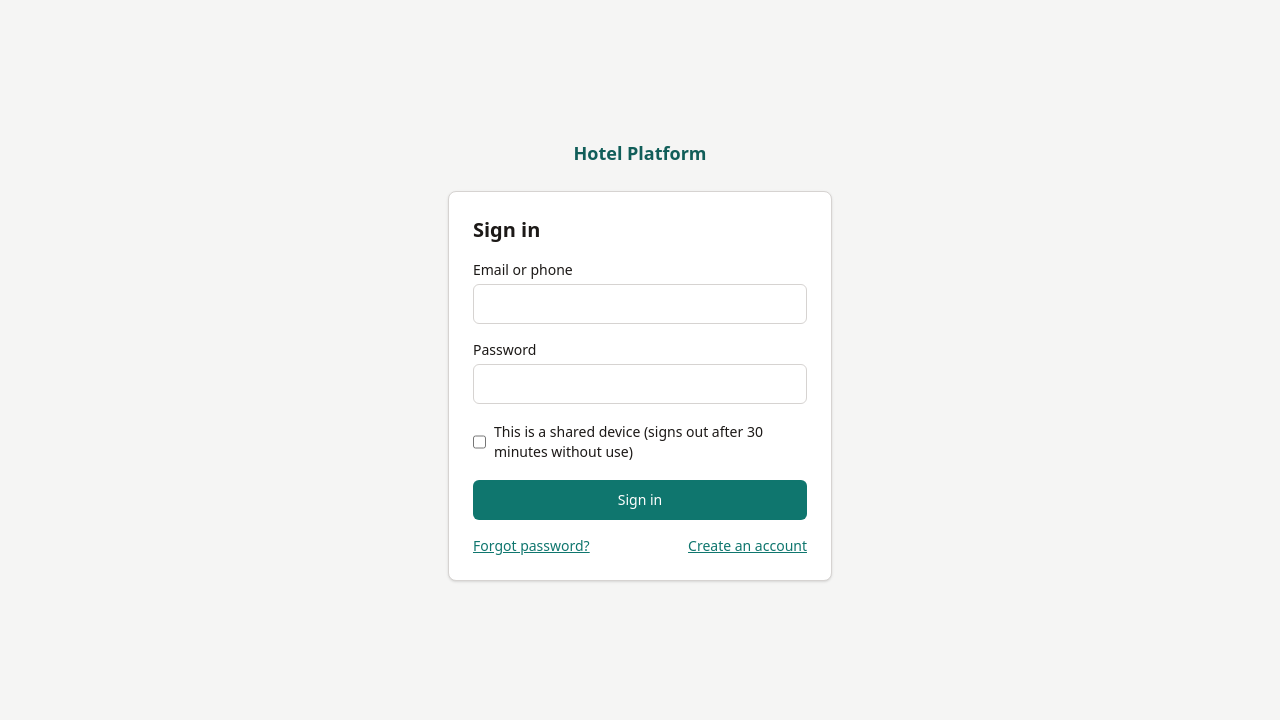
Test: sign in (S01) › signs in and goes where the user was heading
Type "ADA@example.test" into the field labelled "Email or phone" at (640, 304), box top-left (473, 284), bottom-right (807, 324)
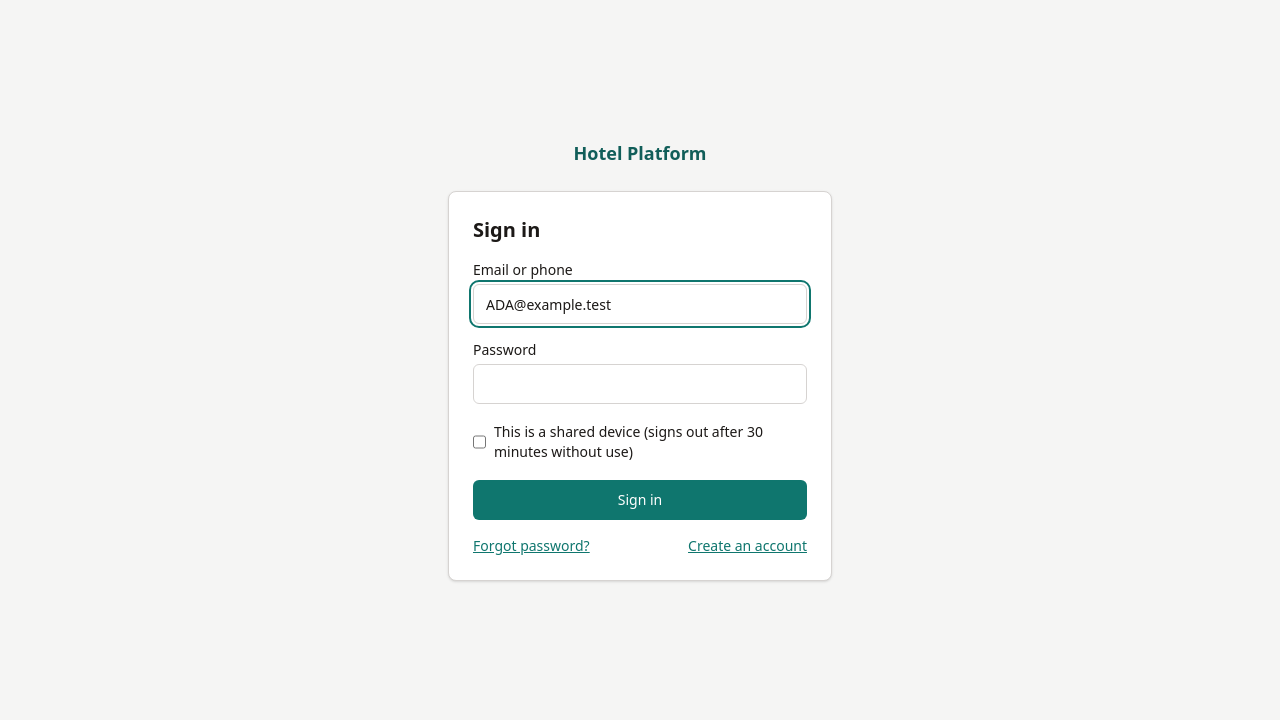
Type "correct horse battery" into the password field labelled "Password" at (640, 384), box top-left (473, 364), bottom-right (807, 404)
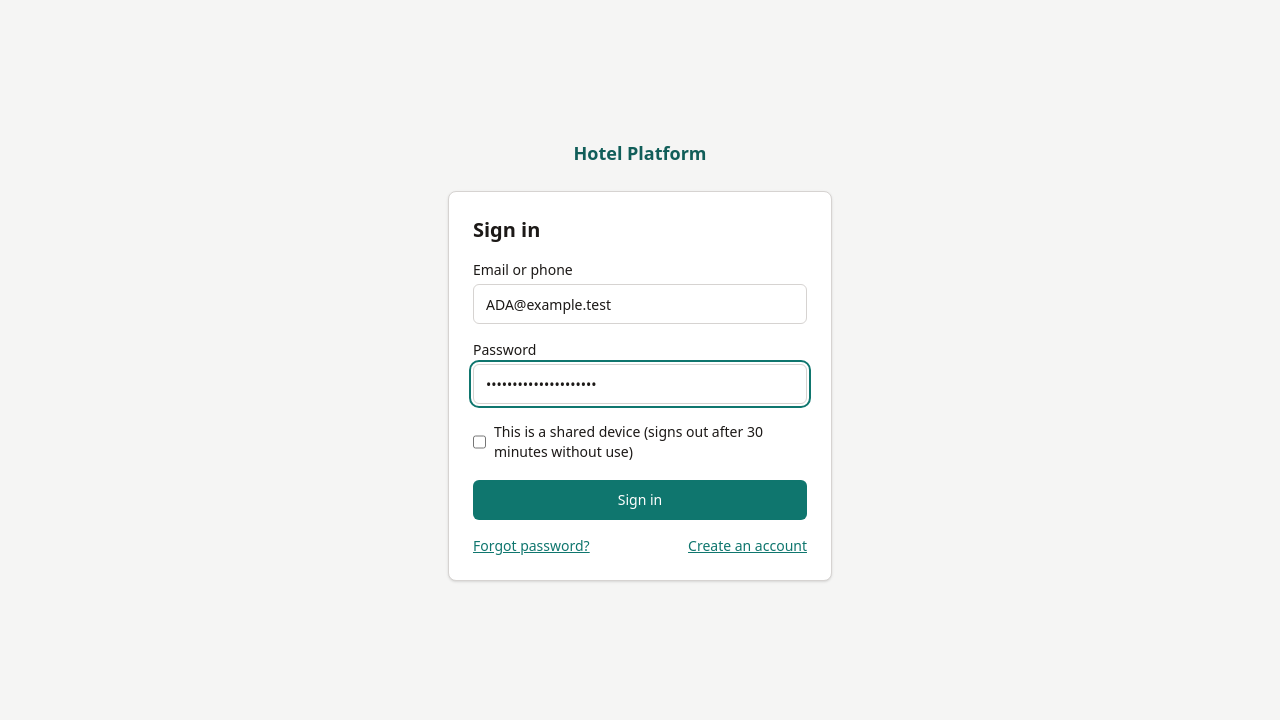
Click the checkbox labelled "shared device" at (480, 442), box top-left (473, 434), bottom-right (486, 450)
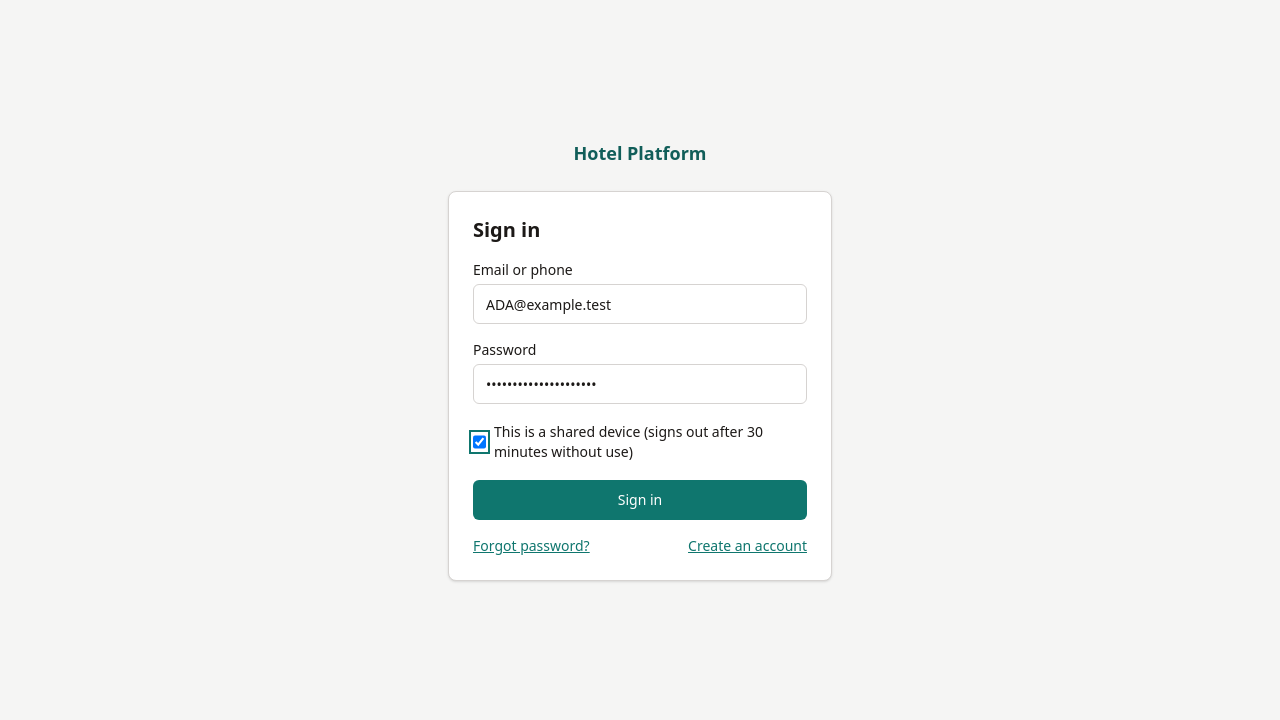
Click the button "Sign in" at (640, 500), box top-left (473, 480), bottom-right (807, 520)
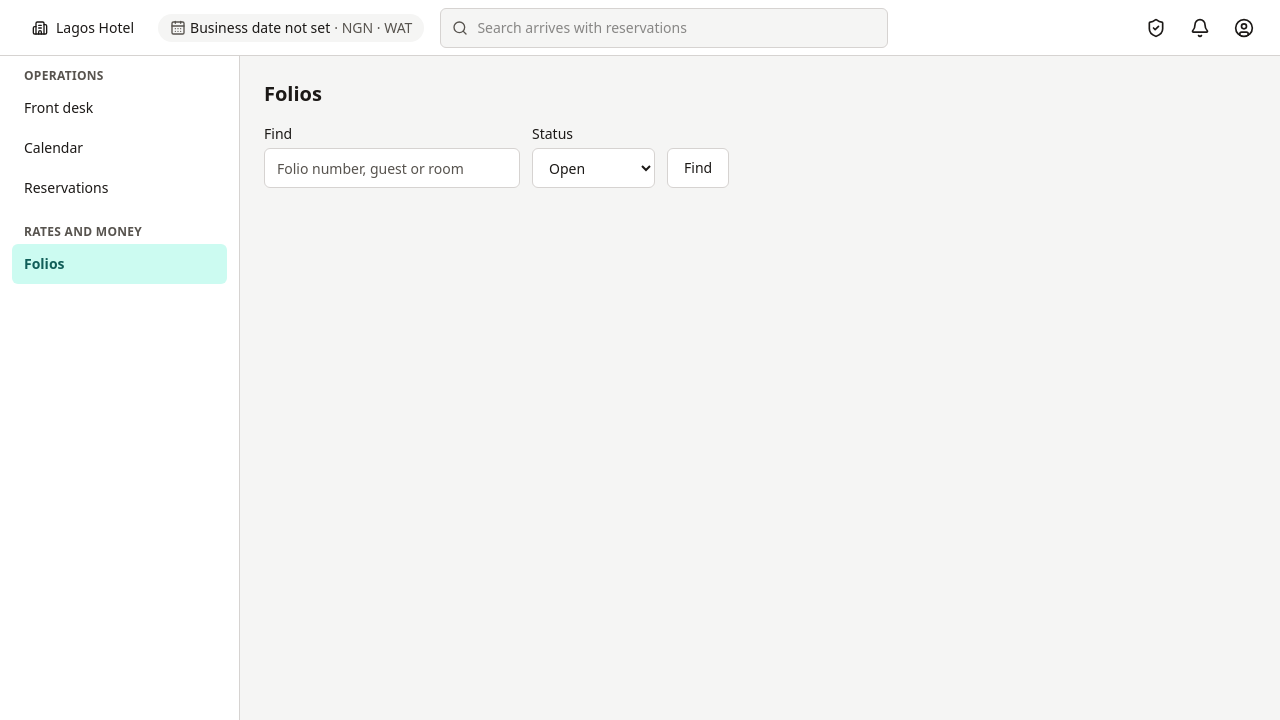
Result: the heading "Folios" is shown at top-left (264, 80), bottom-right (322, 107)
